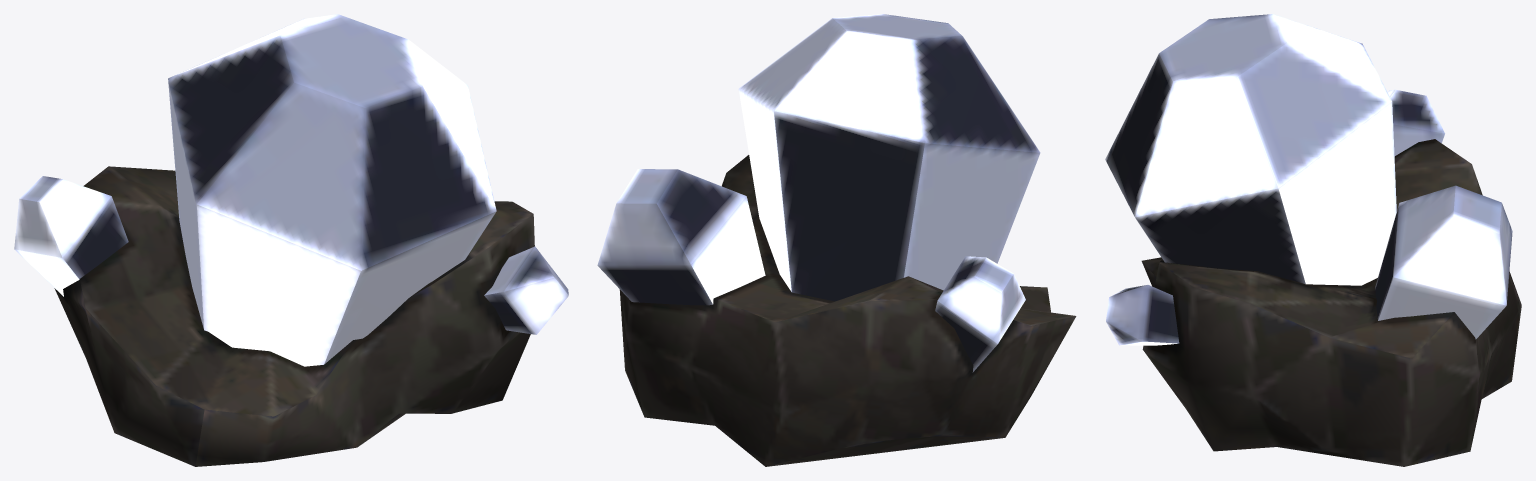
File: Item_Ore_C.glb
3 renders of one model, left to right at view 1: azimuth 30°, elevation 25°; view 2: azimuth 150°, elevation 25°; view 3: azimuth 270°, elevation 25°, orthographic. The views are drawn at different scales.
Parts seen in each view (by area): view 1: Item_Ore_C; view 2: Item_Ore_C; view 3: Item_Ore_C.
Boxes of the visible parts, left/top/right/bottom form: Item_Ore_C: left=14, top=14, right=568, bottom=466; Item_Ore_C: left=597, top=14, right=1076, bottom=466; Item_Ore_C: left=1105, top=14, right=1521, bottom=466.
Size of the model in its own units: 0.5955 by 0.5103 by 0.5457.
2 materials, 2 textured.
